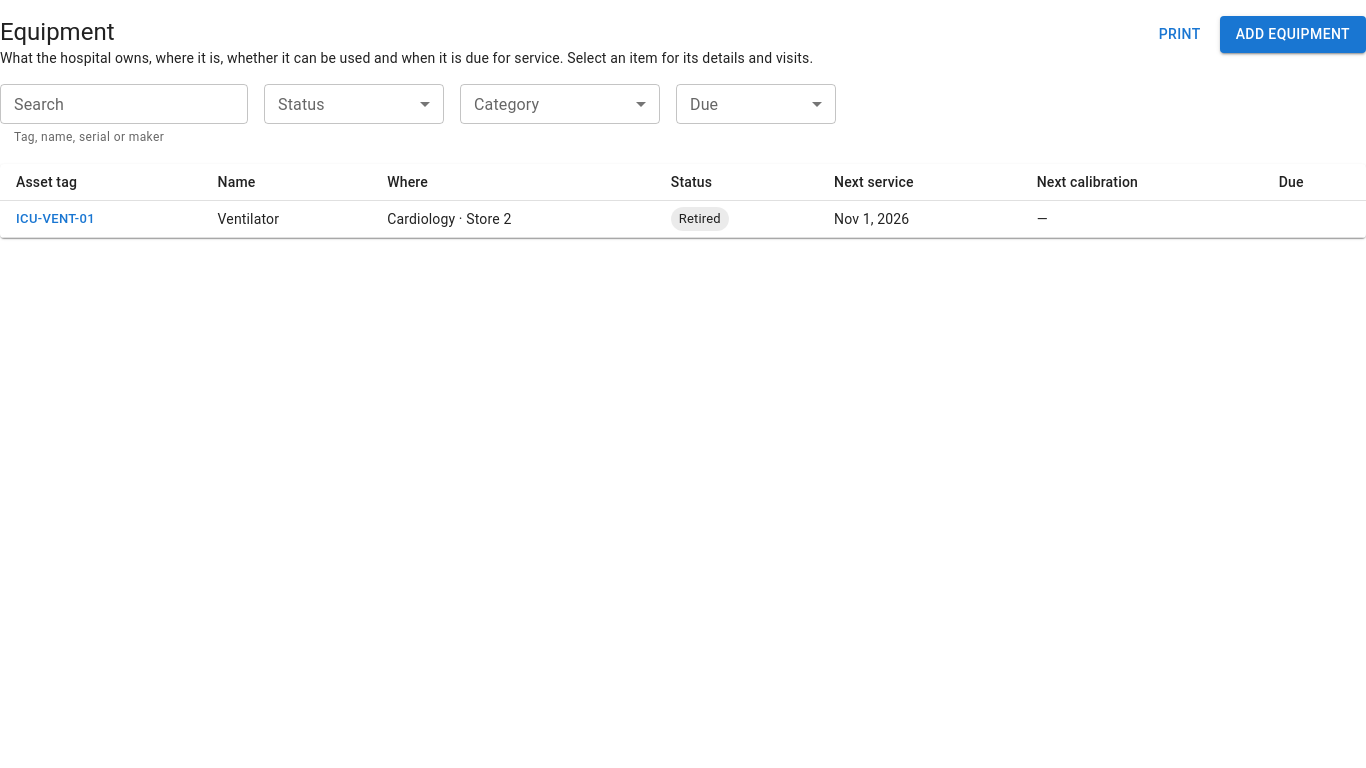
Test: Equipment register (HIMS-FAC-009) › a retired item takes no visits
Click the button "ICU-VENT-01": (56, 219) [16,208,95,230]
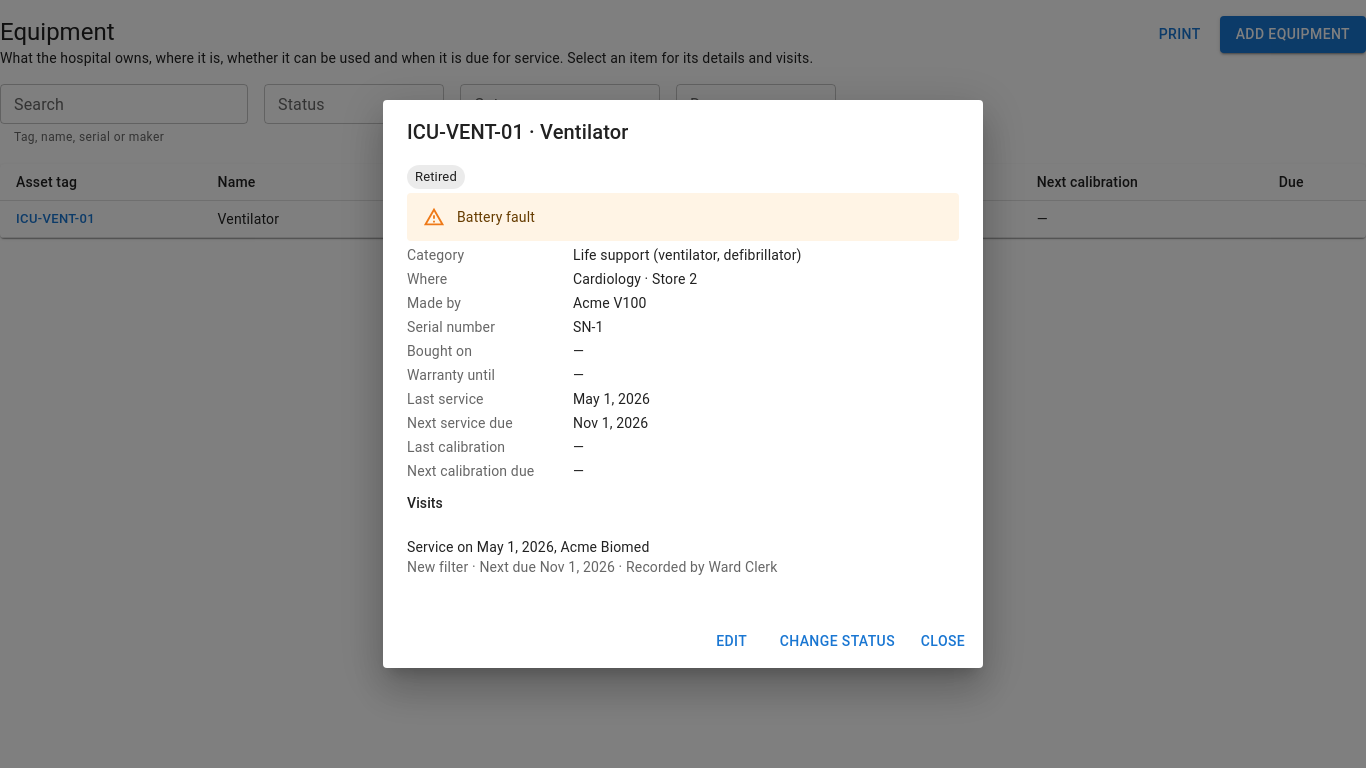
Now the button "Change status" is shown, box [772,623,903,660]
